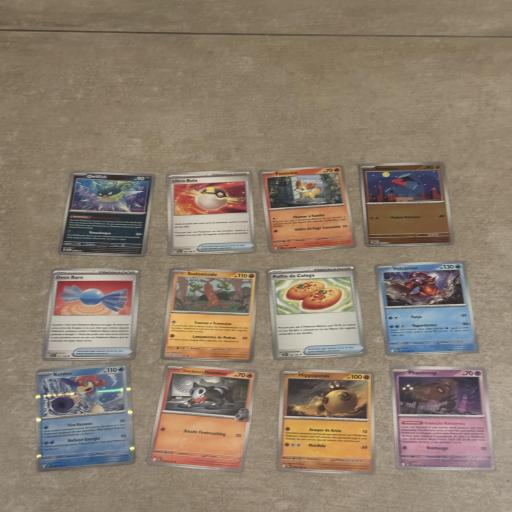card: (146, 361, 259, 473), (390, 361, 496, 475), (27, 363, 137, 472), (275, 368, 379, 475), (374, 260, 481, 358), (266, 263, 368, 361), (160, 268, 260, 363), (41, 268, 141, 361), (258, 164, 358, 254), (57, 171, 156, 257), (358, 162, 455, 247), (164, 169, 257, 256)
